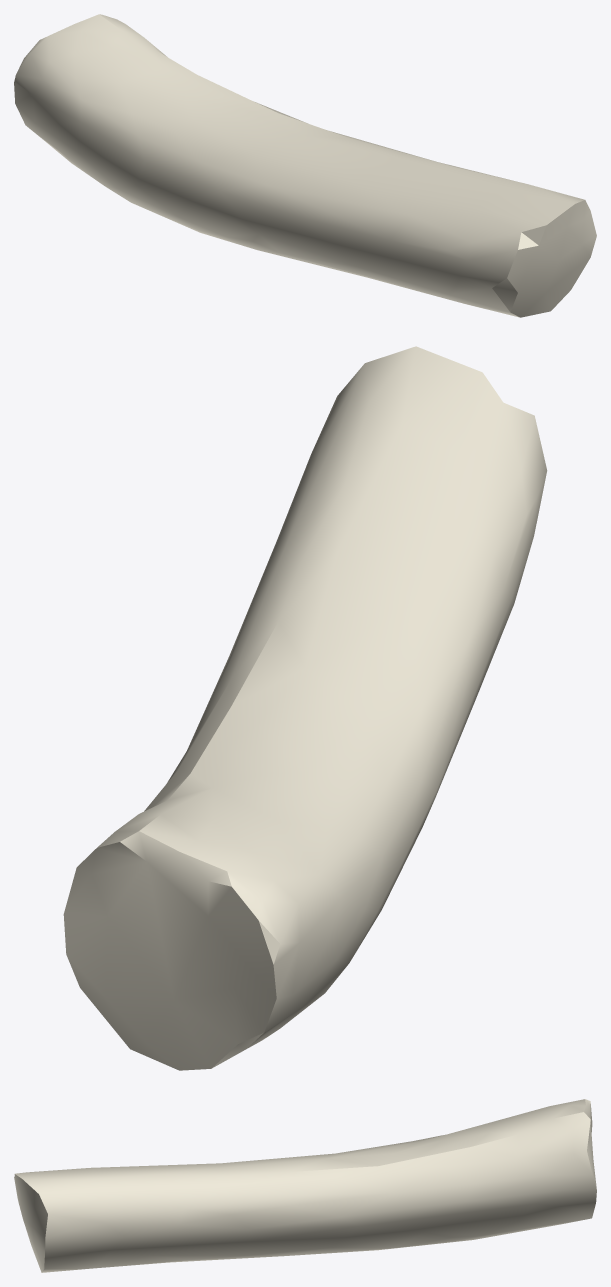
Rendered from fma60895_mm1041m.glb.
3 renders of one model, top to bottom at view 1: azimuth 30°, elevation 25°; view 2: azimuth 150°, elevation 25°; view 3: azimuth 270°, elevation 25°, orthographic. The views are drawn at different scales.
Parts seen in each view (by area): view 1: FMA60895_MM1041M; view 2: FMA60895_MM1041M; view 3: FMA60895_MM1041M.
Boxes of the visible parts, left/top/right/bottom form: FMA60895_MM1041M: left=14, top=14, right=596, bottom=317; FMA60895_MM1041M: left=63, top=346, right=547, bottom=1070; FMA60895_MM1041M: left=14, top=1099, right=596, bottom=1272.
Bounding box in the file's own units: 0.00116 × 0.00058 × 0.00239.
